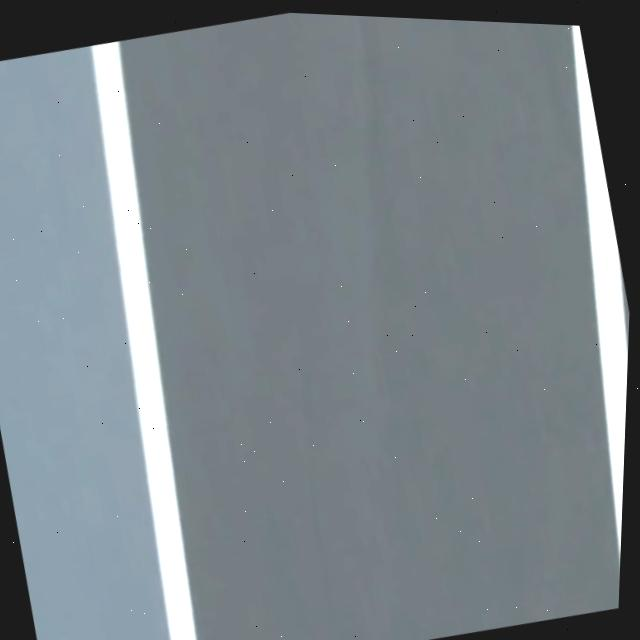center: (571, 25, 628, 574)
left: (90, 41, 196, 640)
